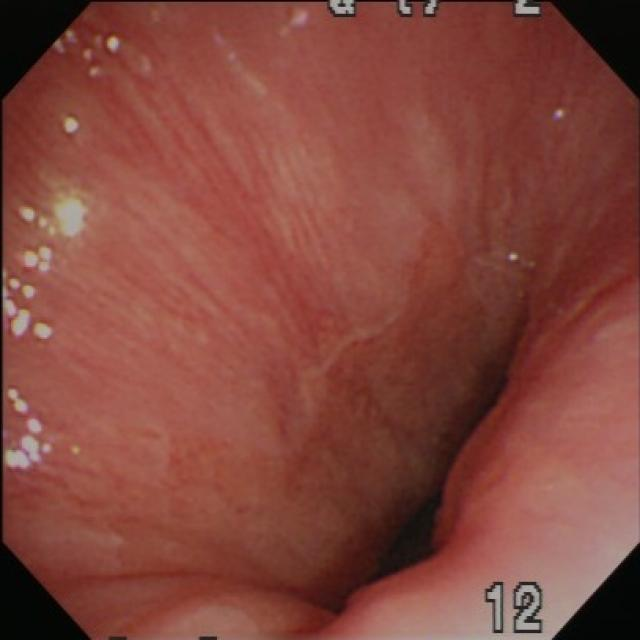E: (341, 441, 467, 607)
J: (12, 174, 95, 239), (4, 384, 58, 477), (3, 272, 58, 342), (51, 28, 124, 80), (23, 244, 56, 278), (281, 6, 314, 37), (59, 112, 83, 136), (555, 107, 569, 121), (508, 251, 522, 264)
S: (325, 3, 545, 20), (485, 581, 547, 636)
